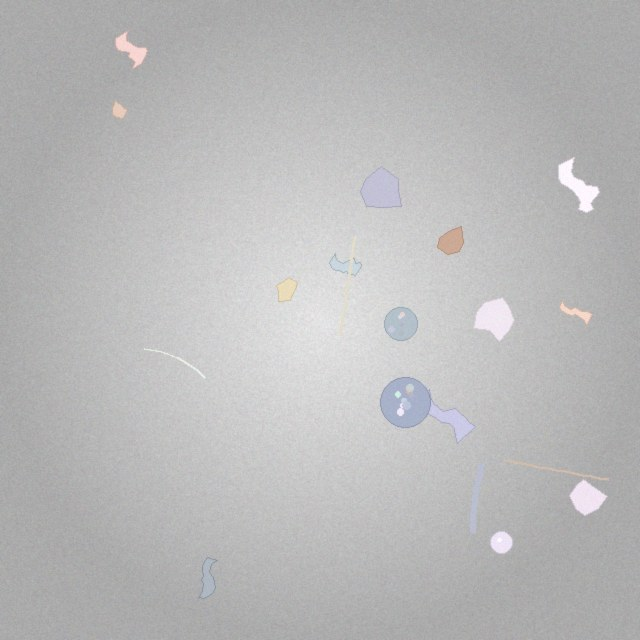fiber: (502, 458, 611, 483), (336, 232, 359, 339), (142, 346, 208, 381), (466, 457, 488, 539)
film: (419, 389, 475, 444), (558, 157, 599, 212), (115, 30, 147, 70), (559, 301, 592, 325), (199, 558, 217, 599), (329, 253, 361, 276)
foam: (380, 378, 430, 428), (385, 308, 418, 341)
fragment: (474, 298, 514, 342), (361, 166, 401, 208), (569, 480, 608, 515), (438, 227, 464, 254), (276, 278, 297, 301), (112, 101, 128, 118)
pellet: (491, 531, 512, 553)
